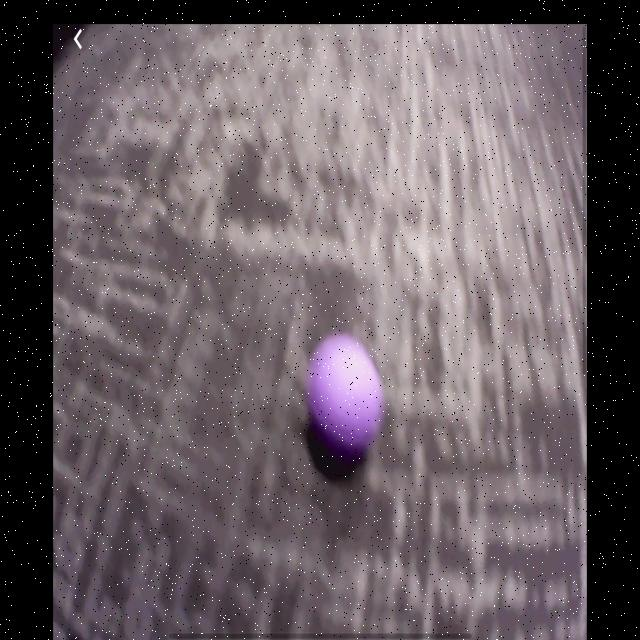ball: (305, 332, 386, 482)
